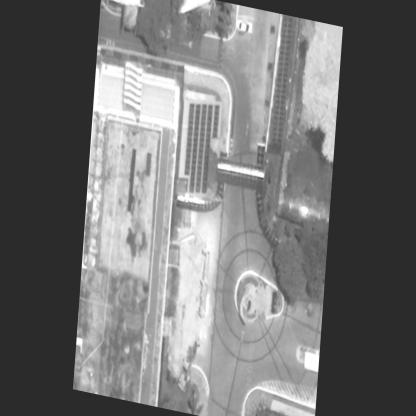solar-pv-panel: (185, 102, 220, 192), (269, 19, 293, 142)
